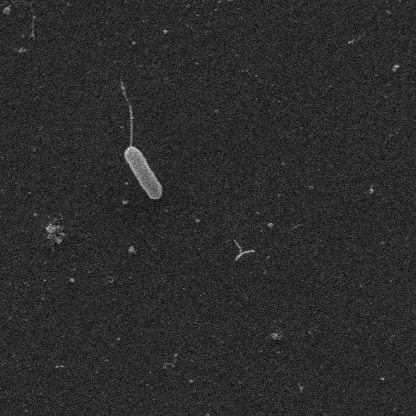cell2surface: (114, 78, 137, 152)
regular: (121, 145, 164, 202)
